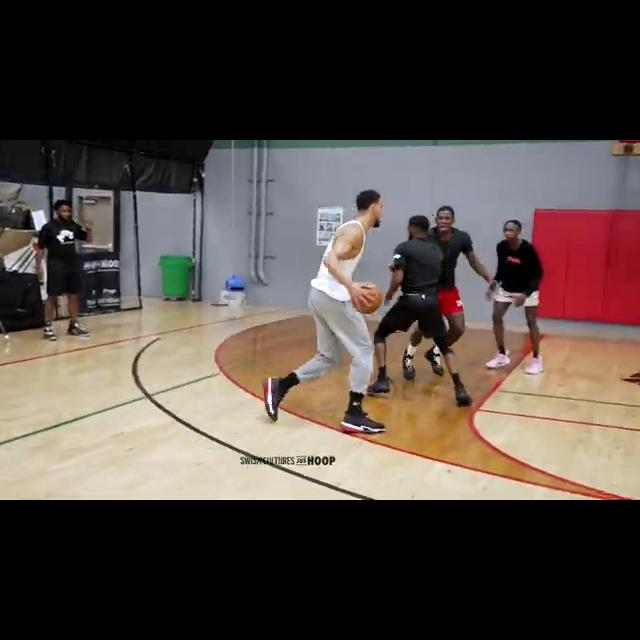basketball: (354, 282, 384, 314)
